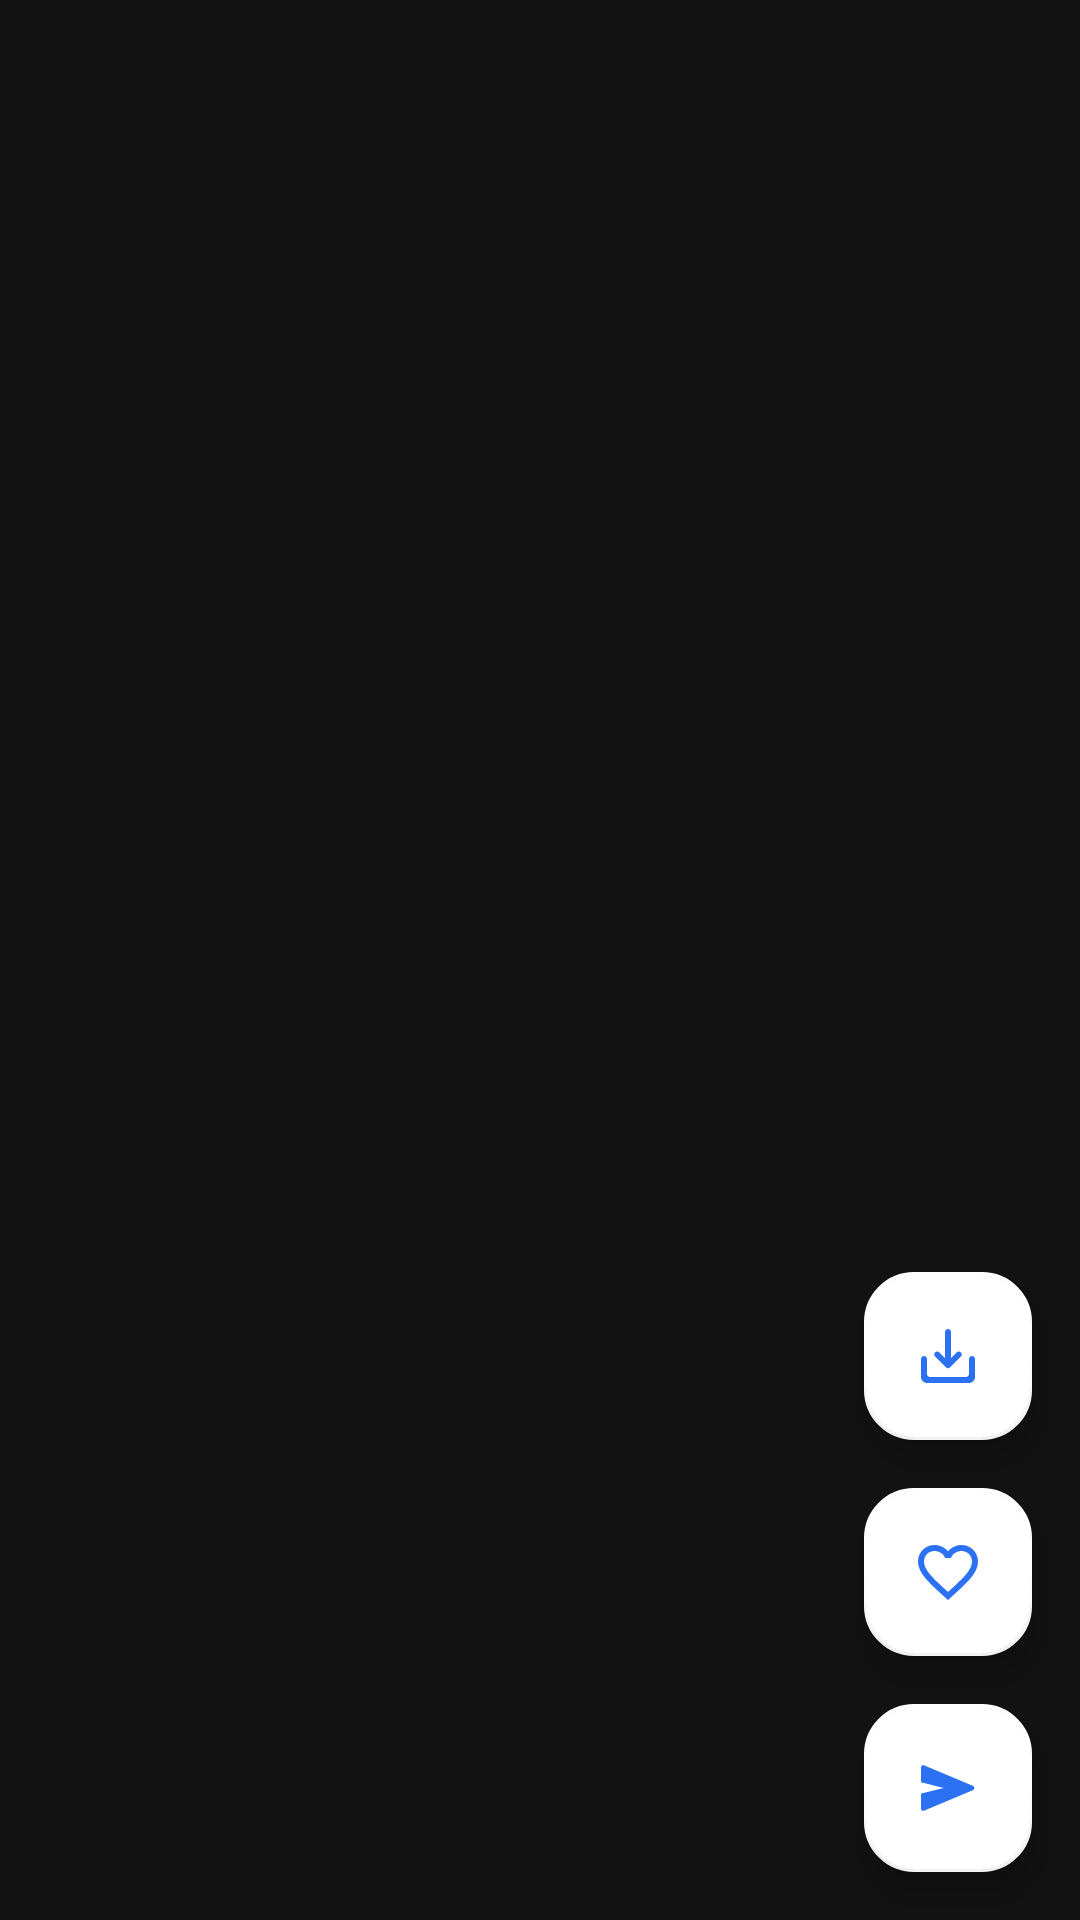

Icons on this 1080px×1920px Android screen, each with the point to tap as point (x, y):
fav: point (948, 1572)
save: point (948, 1356)
share: point (948, 1788)
